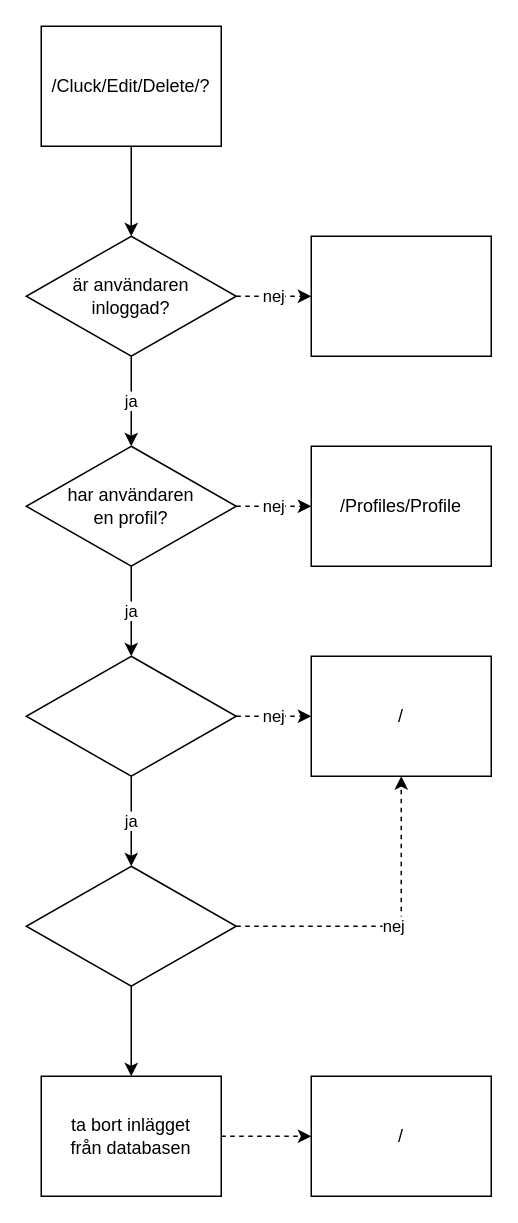
Some shapes in this 518 by 1223 pixel diagram are drawn without their labels. The centre of each missing label's shape, as x and y in pixels:
"/Login" belongs at pixel 400 295.
"Kackel med URLen existerar?" belongs at pixel 130 715.
"äger användaren inlägget?" belongs at pixel 130 925.
